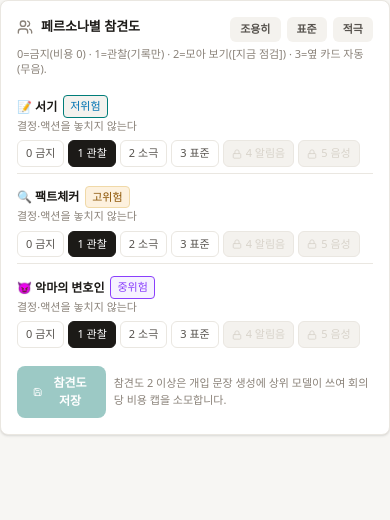
Test: PersonaMatrix — 고위험 개방 › 기본(관찰)에서는 경고가 없고, 3을 고르면 그 줄에 뜬다
The image size is (390, 520).
Check: the text "🔍 팩트체커" is shown, box [17,188,79,206]
Check: the text "오탐률 실측 전입니다" is not shown
Click the button "3 표준" below "🔍 팩트체커": point(195, 244) [171,231,219,257]
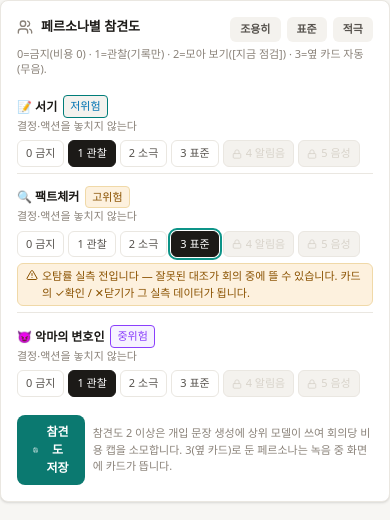
Check: the text "오탐률 실측 전입니다" is shown, box [42,268,361,300]
